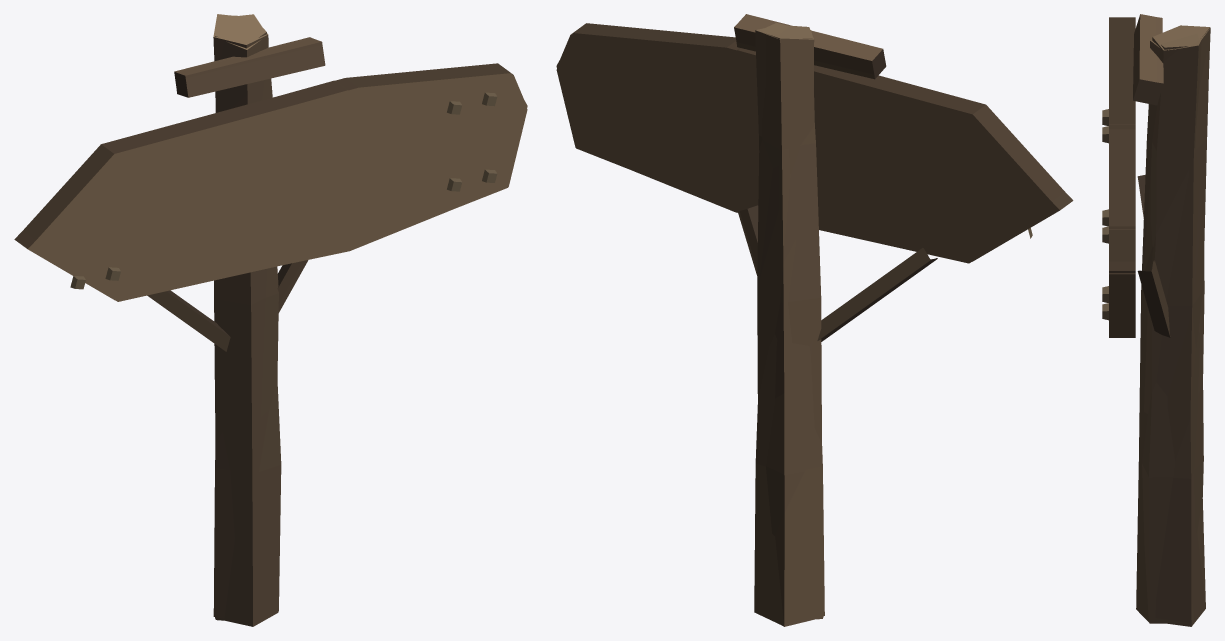
File: sign-boards.glb
3 renders of one model, left to right at view 1: azimuth 30°, elevation 25°; view 2: azimuth 150°, elevation 25°; view 3: azimuth 270°, elevation 25°, orthographic.
Parts seen in each view (by area): view 1: Sign_ACHIEVEMENTS, Sign_EDUCATION, Sign_PROJECTS, Sign_EXPERIENCE; view 2: Sign_EDUCATION, Sign_ACHIEVEMENTS, Sign_PROJECTS, Sign_EXPERIENCE; view 3: Sign_ACHIEVEMENTS, Sign_EXPERIENCE, Sign_PROJECTS, Sign_EDUCATION.
Boxes of the visible parts, bbox=[...] form: Sign_ACHIEVEMENTS: bbox=[23, 14, 527, 416]; Sign_EDUCATION: bbox=[14, 15, 527, 620]; Sign_PROJECTS: bbox=[66, 42, 490, 626]; Sign_EXPERIENCE: bbox=[30, 14, 522, 618]; Sign_EDUCATION: bbox=[556, 23, 1073, 619]; Sign_ACHIEVEMENTS: bbox=[556, 14, 1064, 626]; Sign_PROJECTS: bbox=[601, 41, 1010, 626]; Sign_EXPERIENCE: bbox=[560, 28, 1036, 623]; Sign_ACHIEVEMENTS: bbox=[1102, 14, 1210, 626]; Sign_EXPERIENCE: bbox=[1102, 38, 1205, 622]; Sign_PROJECTS: bbox=[1102, 17, 1204, 623]; Sign_EDUCATION: bbox=[1109, 17, 1210, 532].
Size of the model in its own units: 1.84 by 2.06 by 0.3466.
Materials: 1 (1 with a texture image).
